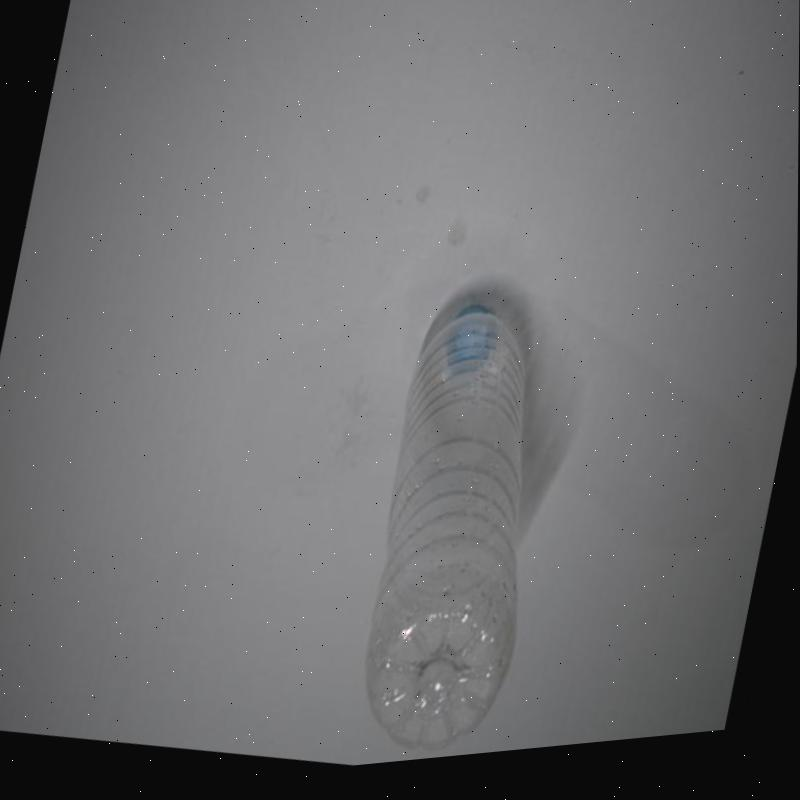botella: (341, 290, 581, 774)
